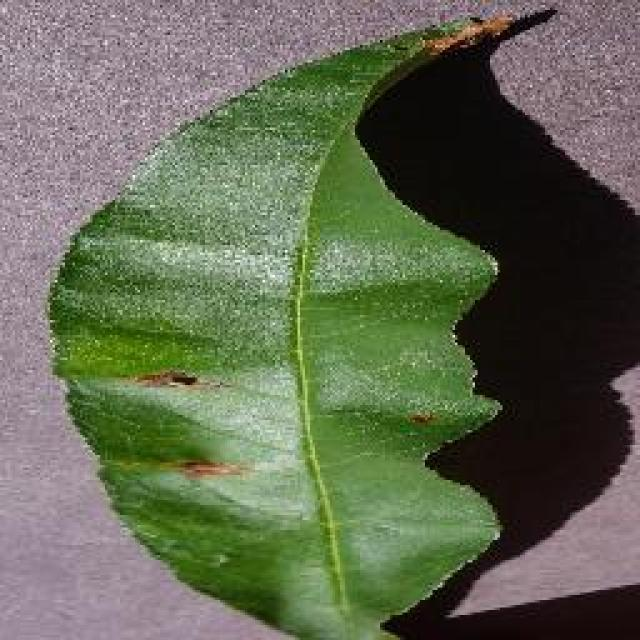Peach_Bacterial_Spot: (123, 294, 312, 494)
